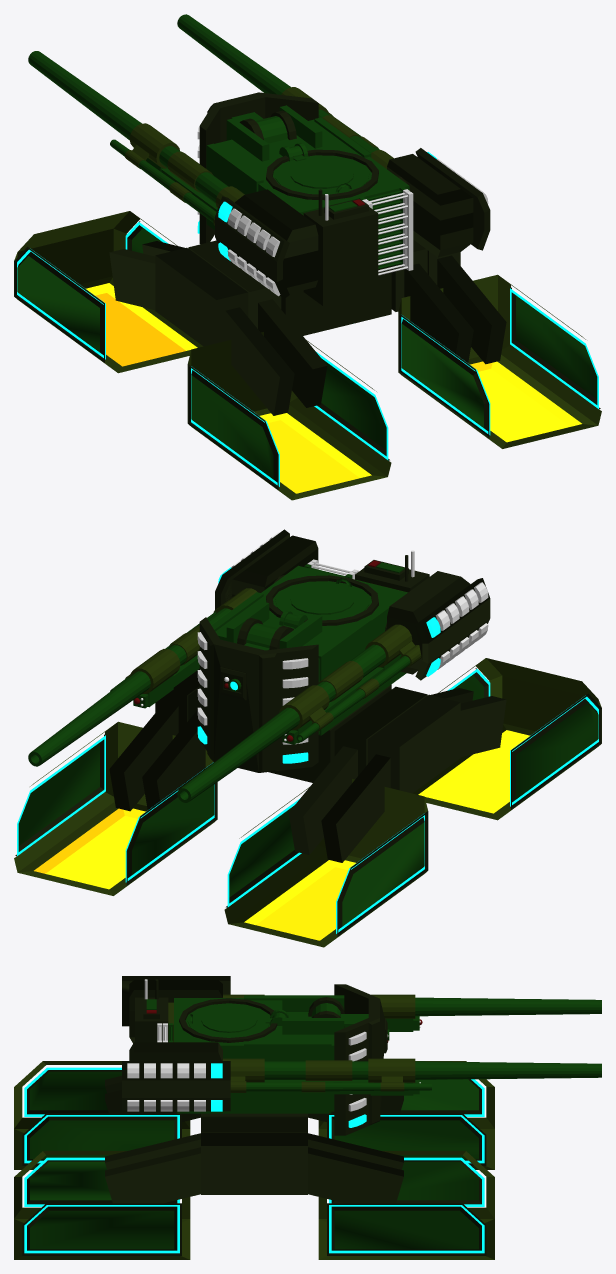
Rendered from FCC hover.fbx.
3 renders of one model, top to bottom at view 1: azimuth 30°, elevation 25°; view 2: azimuth 150°, elevation 25°; view 3: azimuth 270°, elevation 25°, orthographic. The views are drawn at different scales.
Parts seen in each view (by area): view 1: Lower_Base_2, Cube_5, Cube_2_4, Tube_2_2, Upper_Base, Cube_4_2, Lower_Base, Cube, Cube_6, Cube_2_3, Tube_1, Cylinder_2_2 (+7 smaller); view 2: Lower_Base_2, Cube, Tube_2_2, Cube_5, Cube_4_2, Upper_Base, Cube_6, Cylinder_3_3, Cube_2_3, Cylinder_1, Lower_Base, Cylinder_2_2 (+10 smaller); view 3: Lower_Base_2, Tube_2_2, Cube_4_2, Cube, Cube_5, Upper_Base, Cube_1_2_3, Cube_6, Cylinder_3_3, Cube_2_3, Tube_1, Cylinder_2_2 (+11 smaller).
Boxes of the visible parts, <box> form: Lower_Base_2: <box>14,211,601,500</box>; Cube_5: <box>235,154,473,292</box>; Cube_2_4: <box>303,207,378,305</box>; Tube_2_2: <box>28,14,290,140</box>; Upper_Base: <box>206,119,409,266</box>; Cube_4_2: <box>215,148,490,298</box>; Lower_Base: <box>281,266,391,335</box>; Cube: <box>199,92,318,244</box>; Cube_6: <box>206,117,371,194</box>; Cube_2_3: <box>226,105,322,161</box>; Tube_1: <box>266,149,378,200</box>; Cylinder_2_2: <box>275,155,369,194</box>; Lower_Base_2: <box>14,658,601,947</box>; Cube: <box>199,617,318,772</box>; Tube_2_2: <box>28,671,299,802</box>; Cube_5: <box>225,535,470,674</box>; Cube_4_2: <box>215,529,490,680</box>; Upper_Base: <box>215,565,407,734</box>; Cube_6: <box>211,592,371,681</box>; Cylinder_3_3: <box>130,649,329,730</box>; Cube_2_3: <box>226,601,322,648</box>; Cylinder_1: <box>290,586,353,614</box>; Lower_Base: <box>268,685,391,782</box>; Cylinder_2_2: <box>275,581,369,620</box>; Lower_Base_2: <box>14,1061,494,1259</box>; Tube_2_2: <box>415,997,601,1079</box>; Cube_4_2: <box>122,976,230,1111</box>; Cube: <box>334,984,384,1135</box>; Cube_5: <box>129,980,222,1060</box>; Upper_Base: <box>174,998,334,1111</box>; Cube_1_2_3: <box>177,1094,331,1113</box>; Cube_6: <box>244,995,331,1061</box>; Cylinder_3_3: <box>368,994,415,1082</box>; Cube_2_3: <box>282,995,344,1034</box>; Tube_1: <box>179,998,277,1042</box>; Cylinder_2_2: <box>187,1003,269,1037</box>.
Bounding box in the file's own units: 613 × 414 × 1097.
